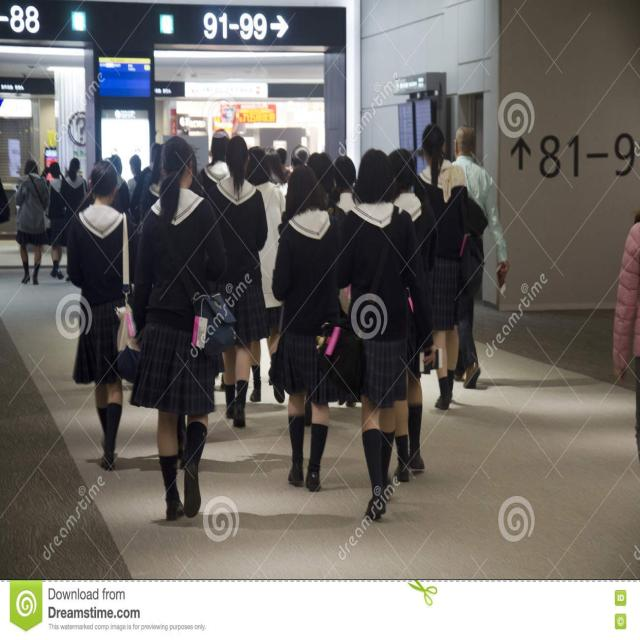body: (129, 132, 239, 525), (333, 147, 443, 522), (269, 161, 354, 495), (64, 158, 142, 474), (431, 120, 512, 394), (204, 134, 273, 431), (405, 120, 472, 412), (387, 147, 438, 484), (292, 161, 341, 432), (242, 144, 288, 406), (608, 207, 640, 476), (13, 158, 51, 288), (247, 139, 320, 186), (128, 141, 162, 226), (197, 127, 236, 199), (45, 160, 68, 281), (135, 140, 164, 232), (61, 157, 88, 246), (330, 154, 364, 215), (107, 154, 130, 214), (127, 154, 143, 204), (176, 413, 189, 471), (187, 168, 203, 197)
